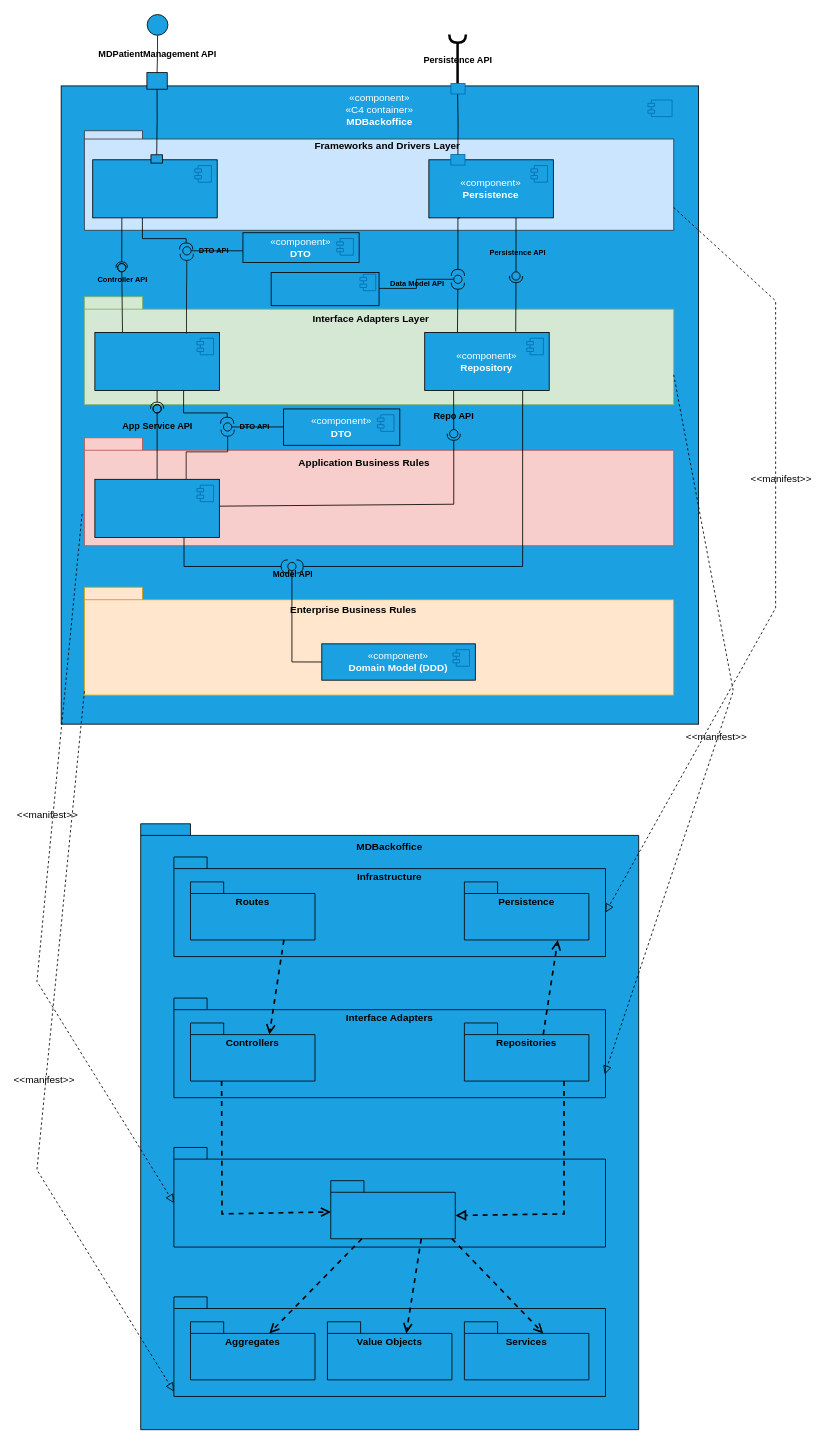
Some shapes in this 826 by 1444 pixel diagram are drawn without their labels. Each missing label, with the box of its shape:
App Services: (330, 1180, 455, 1239)
Application Services/Use Case Services: (173, 1147, 605, 1247)
Core: (173, 1296, 605, 1396)
«component» Application Service: (94, 478, 219, 537)
«component» Controller: (94, 332, 219, 391)
«component» Data Model: (270, 272, 379, 306)
«component» Routing: (92, 159, 217, 218)
